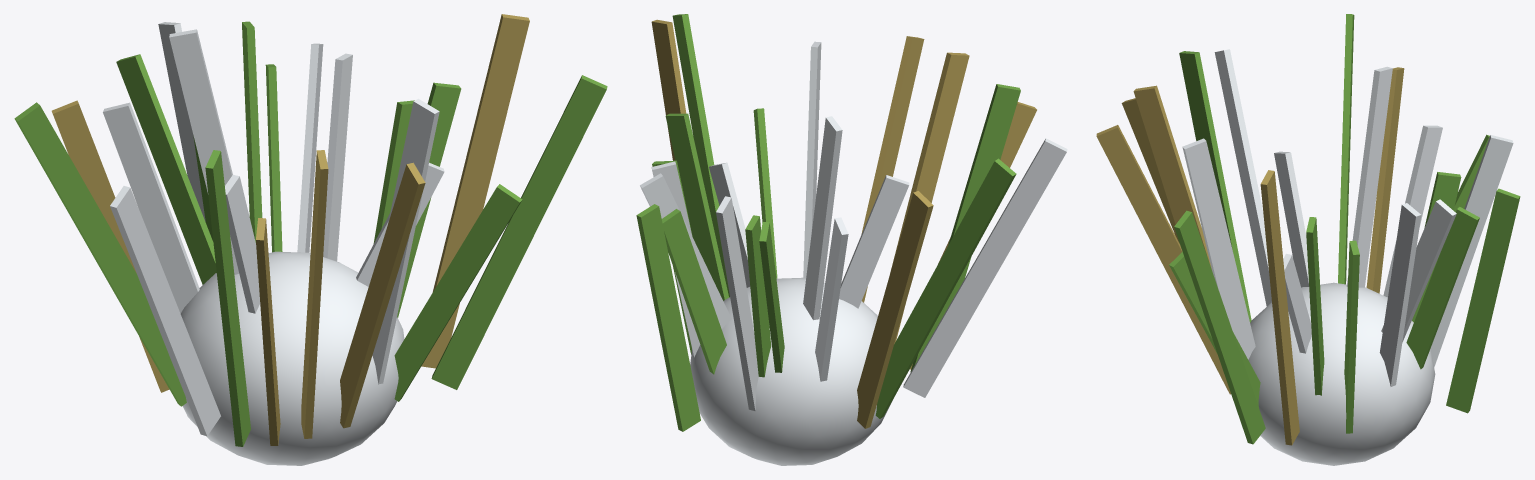
Rendered from buisson_toundra_3.glb.
3 views of the same model, side by side, from view 1: azimuth 30°, elevation 25°; view 2: azimuth 150°, elevation 25°; view 3: azimuth 270°, elevation 25° (orthographic). The views are drawn at different scales.
Visible parts, largest first — view 1: herbe_neige.002, herbe_feuille_claire.004, herbe_herbe_seche.004; view 2: herbe_neige.002, herbe_feuille_claire.004, herbe_herbe_seche.004; view 3: herbe_neige.002, herbe_feuille_claire.004, herbe_herbe_seche.004.
Part boxes in pixels (x1=…): herbe_neige.002: x1=103, y1=22, x2=444, y2=465; herbe_feuille_claire.004: x1=14, y1=21, x2=607, y2=446; herbe_herbe_seche.004: x1=51, y1=14, x2=529, y2=445; herbe_neige.002: x1=640, y1=41, x2=1067, y2=465; herbe_feuille_claire.004: x1=636, y1=14, x2=1020, y2=431; herbe_herbe_seche.004: x1=651, y1=19, x2=1036, y2=428; herbe_neige.002: x1=1182, y1=49, x2=1513, y2=465; herbe_feuille_claire.004: x1=1169, y1=14, x2=1520, y2=444; herbe_herbe_seche.004: x1=1096, y1=67, x2=1404, y2=445.
Bounding box in the file's own units: 0.7104 × 0.5839 × 0.6263.
